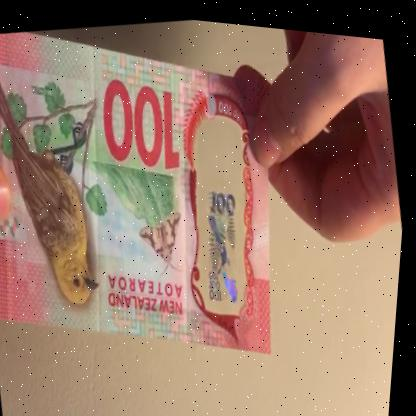100B: (185, 153, 260, 306)
